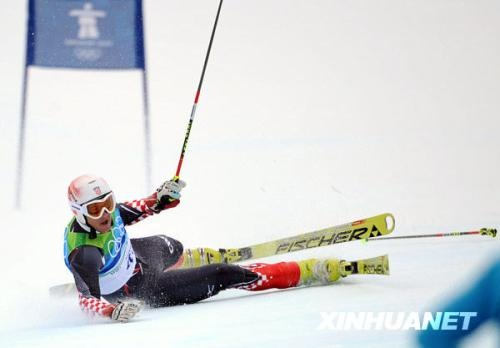falling: (56, 163, 385, 324)
